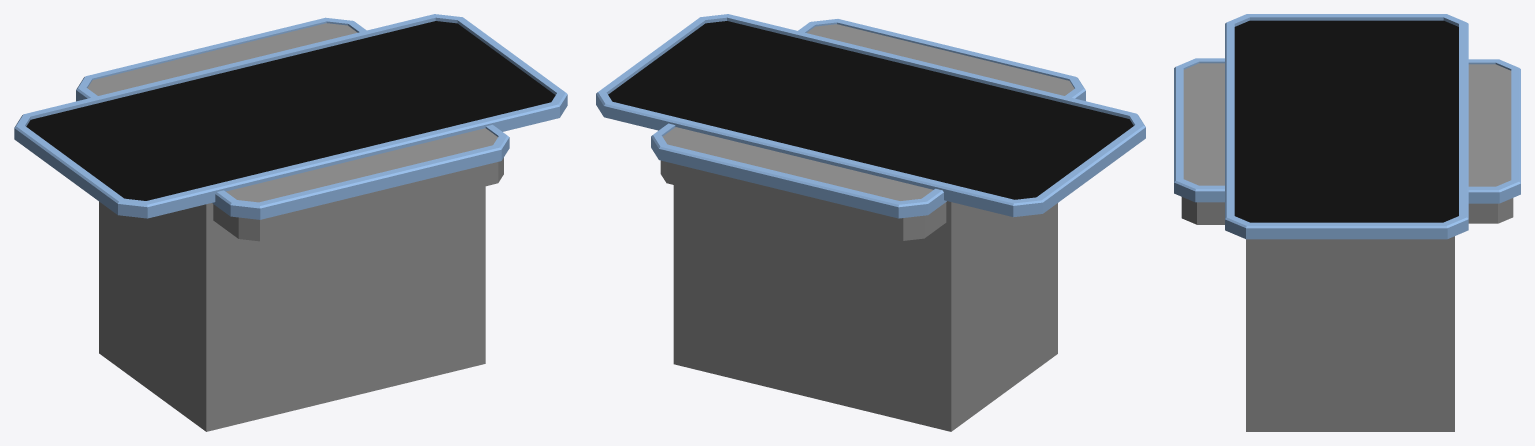
File: table.FBX
3 views of the same model, side by side, from view 1: azimuth 30°, elevation 25°; view 2: azimuth 150°, elevation 25°; view 3: azimuth 270°, elevation 25° (orthographic). The views are drawn at different scales.
Visible parts, largest first — view 1: Box002, Box007, Box001, Box003, Box004, Box006, Box005; view 2: Box002, Box007, Box001, Box006, Box005, Box003, Box004; view 3: Box007, Box002, Box001, Box006, Box003, Box005, Box004.
Part boxes in pixels (x1,y1,x2,y2): Box002: (99,186,485,431); Box007: (26,21,555,200); Box001: (14,14,567,218); Box003: (213,128,503,241); Box004: (212,124,509,219); Box006: (87,23,357,95); Box005: (76,17,366,101); Box002: (673,185,1057,431); Box007: (608,21,1133,199); Box001: (596,14,1145,217); Box006: (660,127,946,240); Box005: (651,123,946,218); Box003: (807,24,1074,95); Box004: (798,19,1085,100); Box007: (1234,20,1458,222); Box002: (1246,236,1454,431); Box001: (1225,14,1468,239); Box006: (1468,64,1513,223); Box003: (1181,63,1224,224); Box005: (1468,59,1520,203); Box004: (1174,58,1224,202).
Size of the model in its own units: 145 by 99.56 by 77.38.
